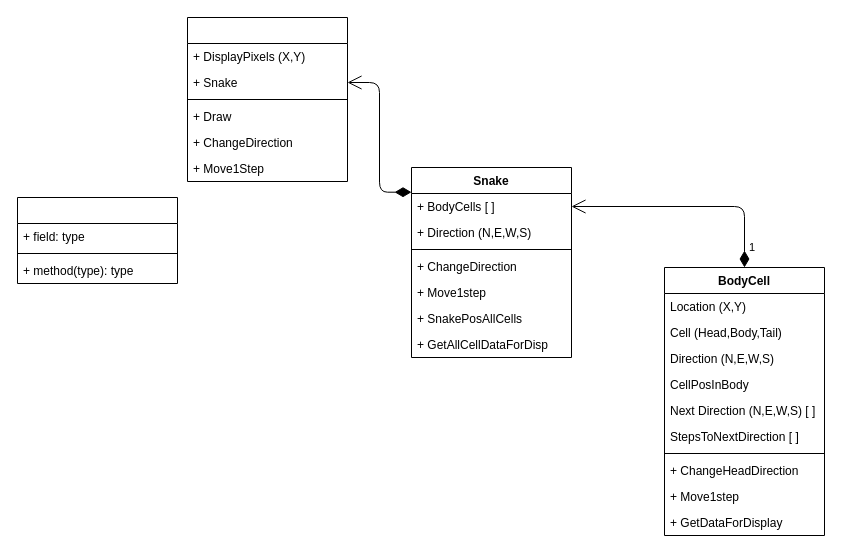
Image size: 842x556. Some labels were removed from this diagram. The shapes that lost their labels are listed below. From the top down, each one's box as (x1, y1, x2, y2) in pixels, then its label:
(186, 16, 348, 182): 2D_Representer
(16, 196, 178, 284): Boundary
